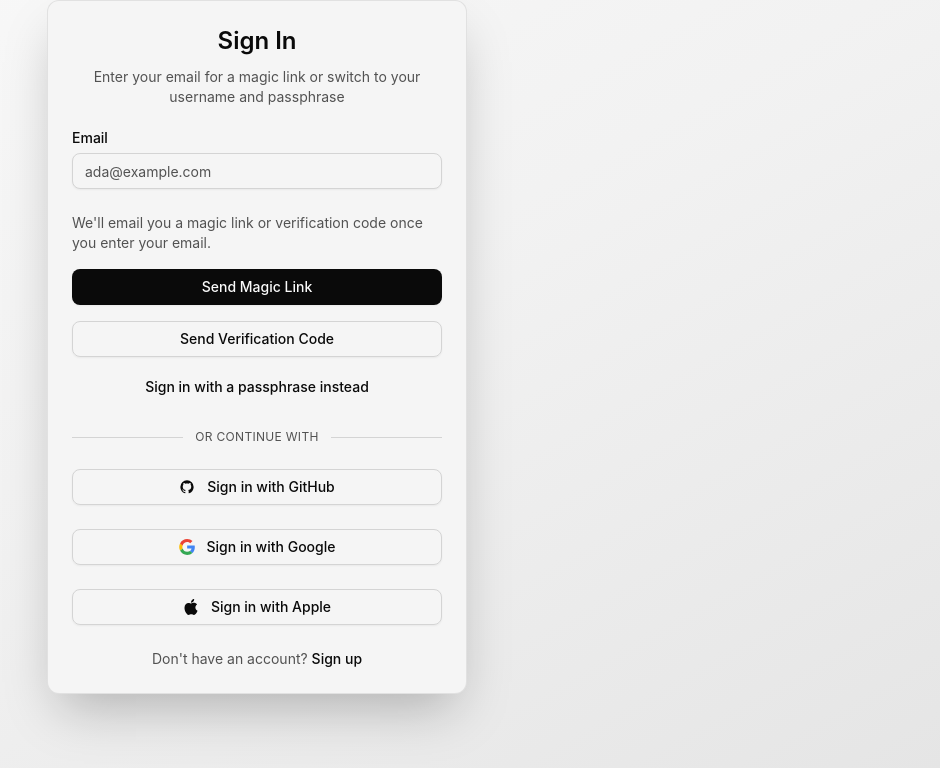
SignIn › sends a verification code and renders the OTP input
The image size is (940, 768).
Type "otp@example.com" into the field with placeholder "ada@example.com" at (257, 171), box [72,153,442,189]
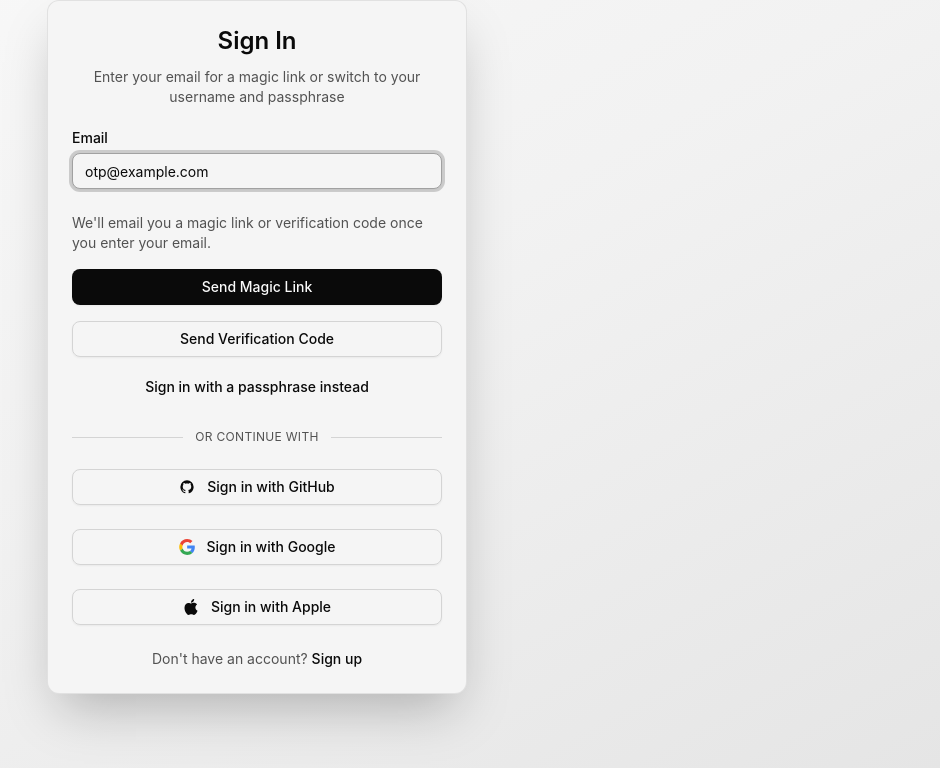
Click the button "Send Verification Code" at (257, 339), box [72,321,442,357]
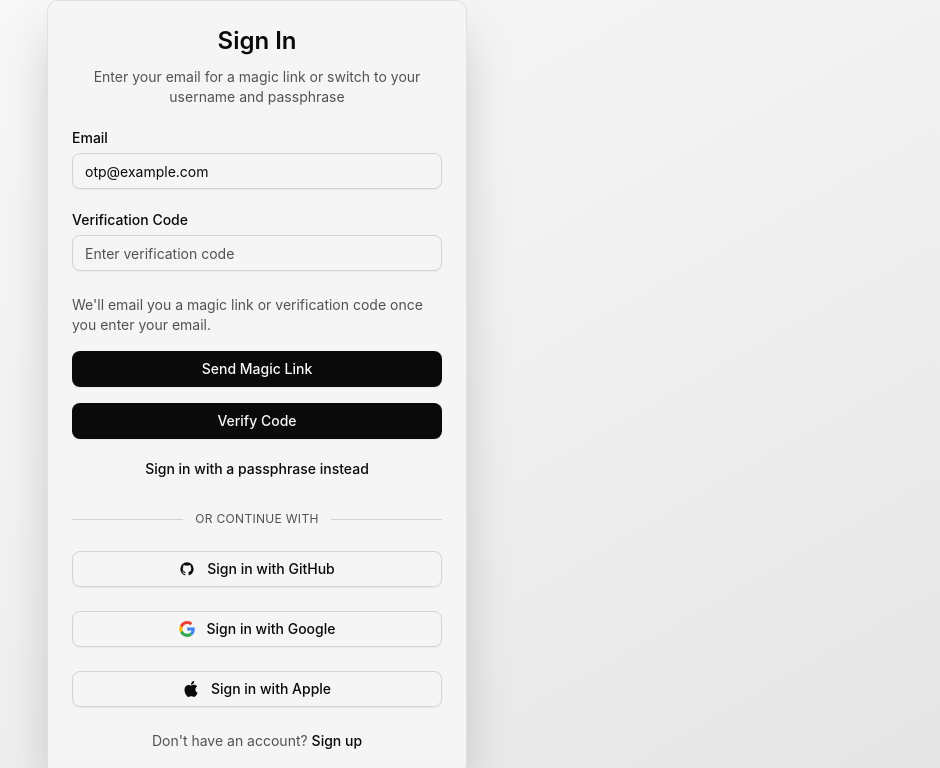
Now the field with placeholder "Enter verification code" is shown, box [72,235,442,271]
